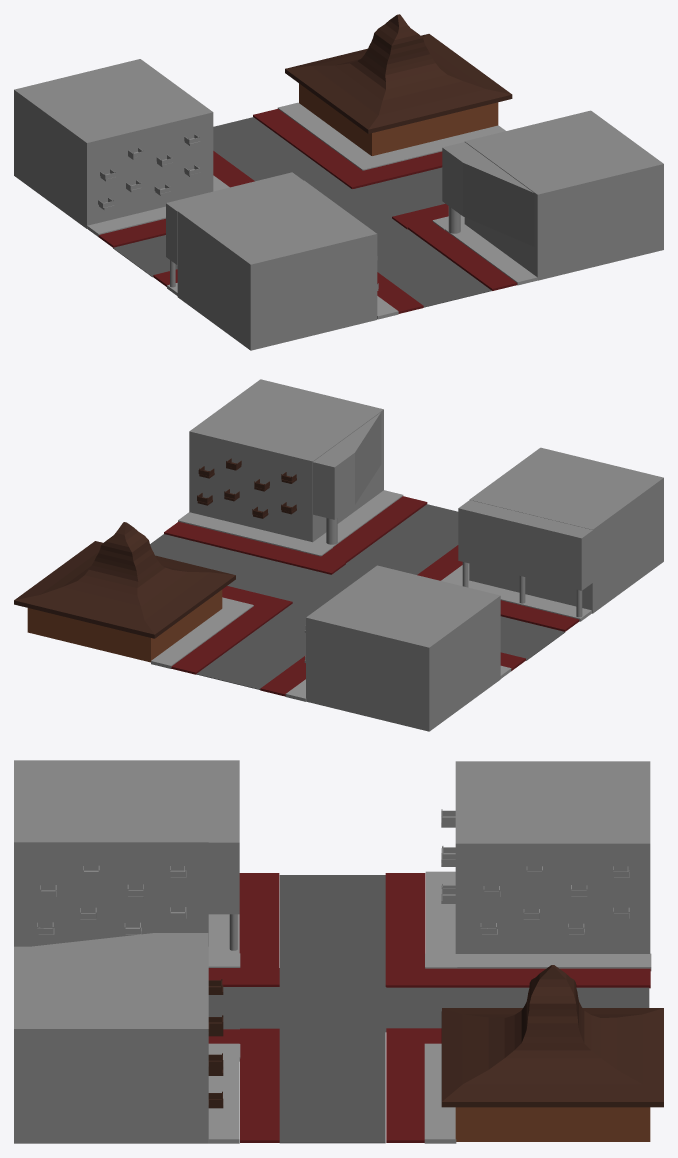
File: Pws Omgeving(1).fbx
The picture shows the model from 3 angles, top to bottom: view 1: azimuth 30°, elevation 25°; view 2: azimuth 150°, elevation 25°; view 3: azimuth 270°, elevation 25°; orthographic projection. The views are drawn at different scales.
Visible parts, largest first — view 1: Cube.003; view 2: Cube.003; view 3: Cube.003.
Boxes of the visible parts, x1,y1,x2,y2 form: Cube.003: (14, 14, 663, 350); Cube.003: (14, 379, 663, 731); Cube.003: (14, 760, 663, 1143).
Size of the model in its own units: 8218 by 1906 by 8214.
